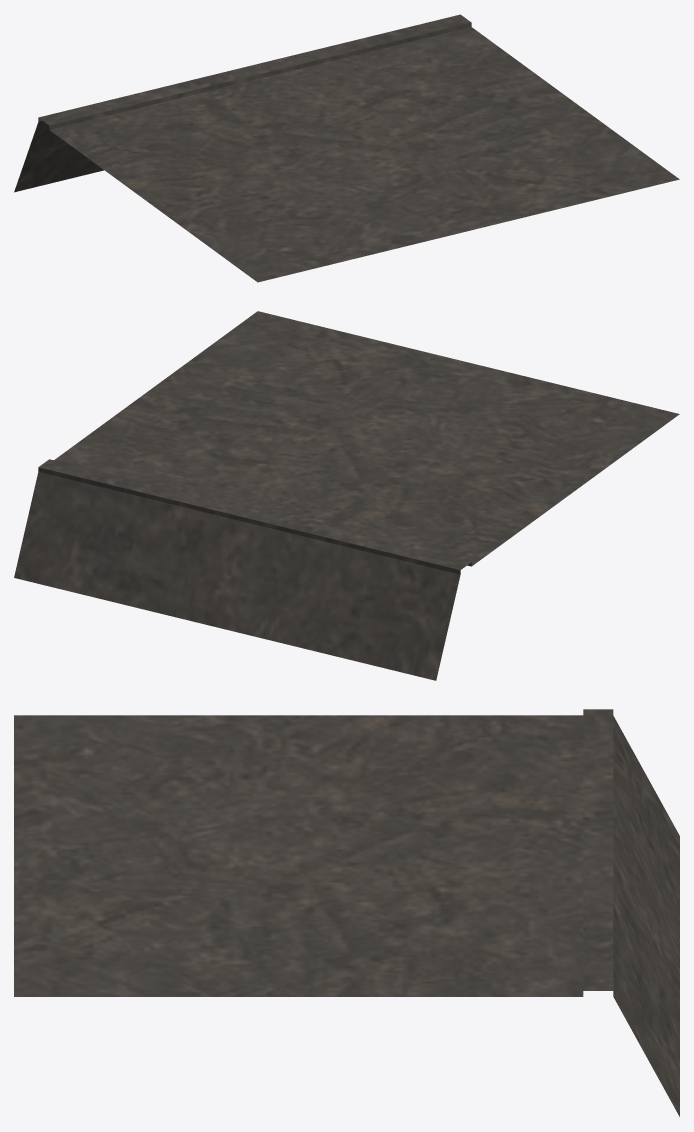
Rendered from Pavement_2.glb.
3 renders of one model, top to bottom at view 1: azimuth 30°, elevation 25°; view 2: azimuth 150°, elevation 25°; view 3: azimuth 270°, elevation 25°, orthographic. The views are drawn at different scales.
Parts seen in each view (by area): view 1: Pavement_2.001; view 2: Pavement_2.001; view 3: Pavement_2.001.
Part boxes in pixels (<box>): Pavement_2.001: <box>14,14,679,282</box>; Pavement_2.001: <box>14,311,679,680</box>; Pavement_2.001: <box>14,709,679,1116</box>.
Bounding box in the file's own units: 1 × 0.21 × 1.
1 material, 1 textured.
